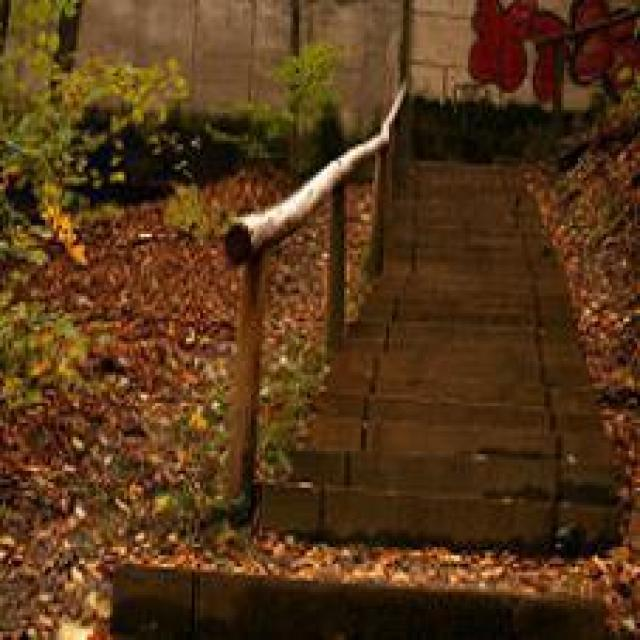upstair: (280, 289, 616, 548)
